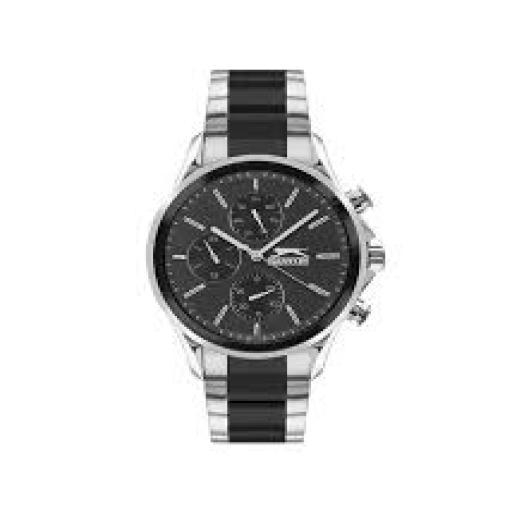KolSaati: (146, 48, 388, 461)
